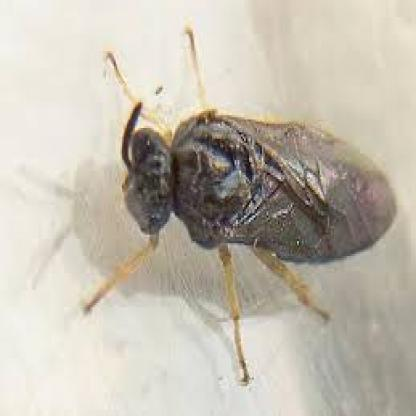sawfly: (77, 27, 402, 383)
